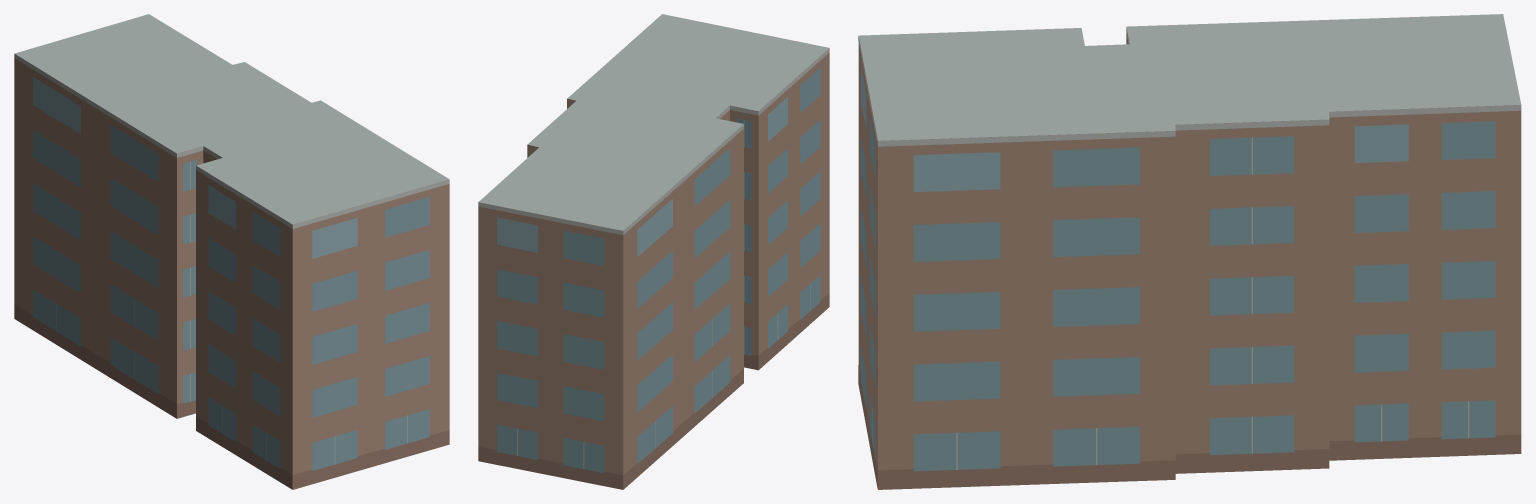
File: survey-upis-33024046.glb
3 views of the same model, side by side, from view 1: azimuth 30°, elevation 25°; view 2: azimuth 150°, elevation 25°; view 3: azimuth 270°, elevation 25° (orthographic). The views are drawn at different scales.
Parts seen in each view (by area): view 1: survey-upis-33024046.tmp; view 2: survey-upis-33024046.tmp; view 3: survey-upis-33024046.tmp.
Boxes of the visible parts, x1=… form: survey-upis-33024046.tmp: x1=14, y1=14, x2=449, y2=489; survey-upis-33024046.tmp: x1=478, y1=14, x2=829, y2=489; survey-upis-33024046.tmp: x1=858, y1=14, x2=1521, y2=489.
Size of the model in its own units: 11.4 by 14.6 by 25.14.
